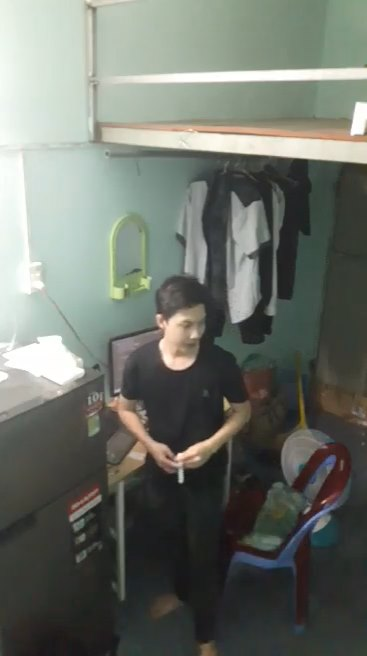cigarette: (172, 445, 191, 486)
person: (108, 268, 264, 656)
